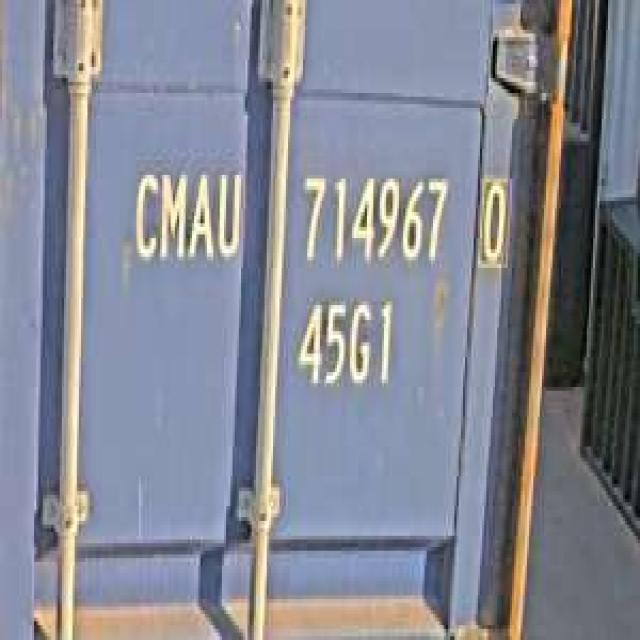dv: (474, 168, 514, 272)
owner: (128, 157, 243, 276)
serial: (292, 160, 452, 275)
size: (292, 287, 399, 398)
